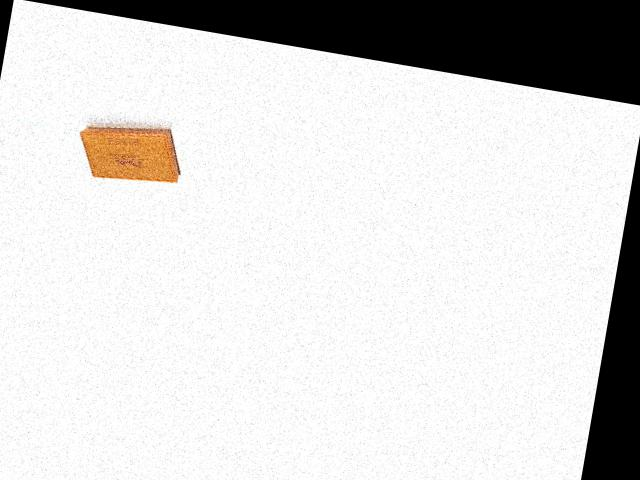chocolate: (73, 105, 191, 194)
